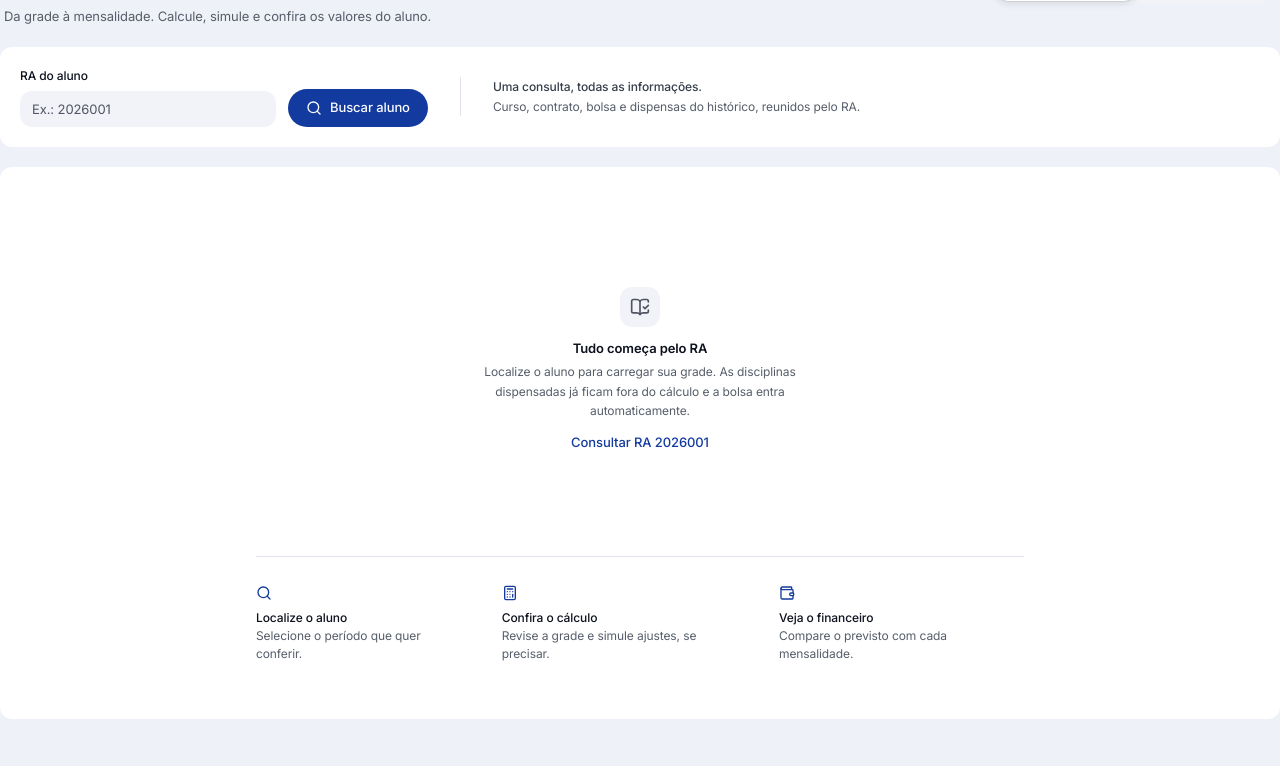
Test: cálculo independente por RA e manual › restaura o cadastro após ajustes e usa a fórmula correta ao alternar perfil
The image size is (1280, 766).
Click the button "Consultar RA 2026001": (640, 442) [571,432,709,452]
(page scrolled)
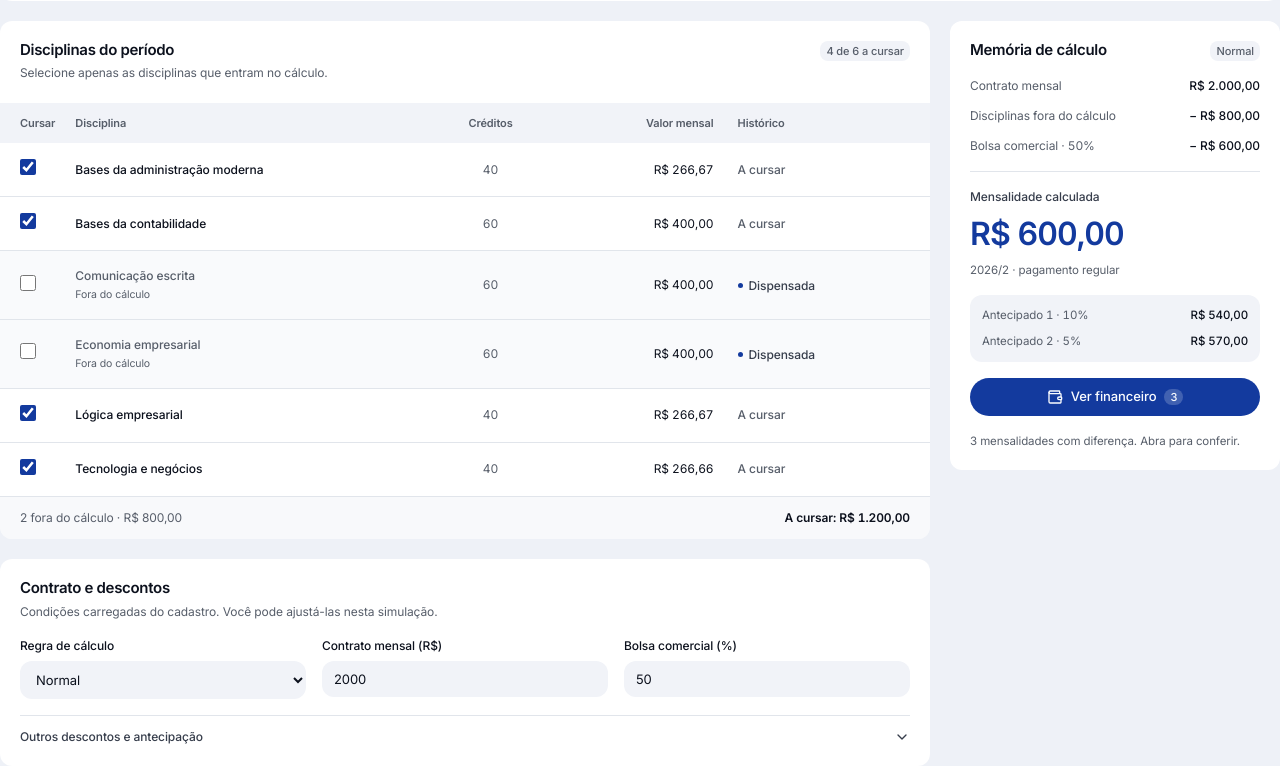
Select "CEU" in the dropdown labelled "Regra de cálculo": (163, 680) [20,661,306,699]
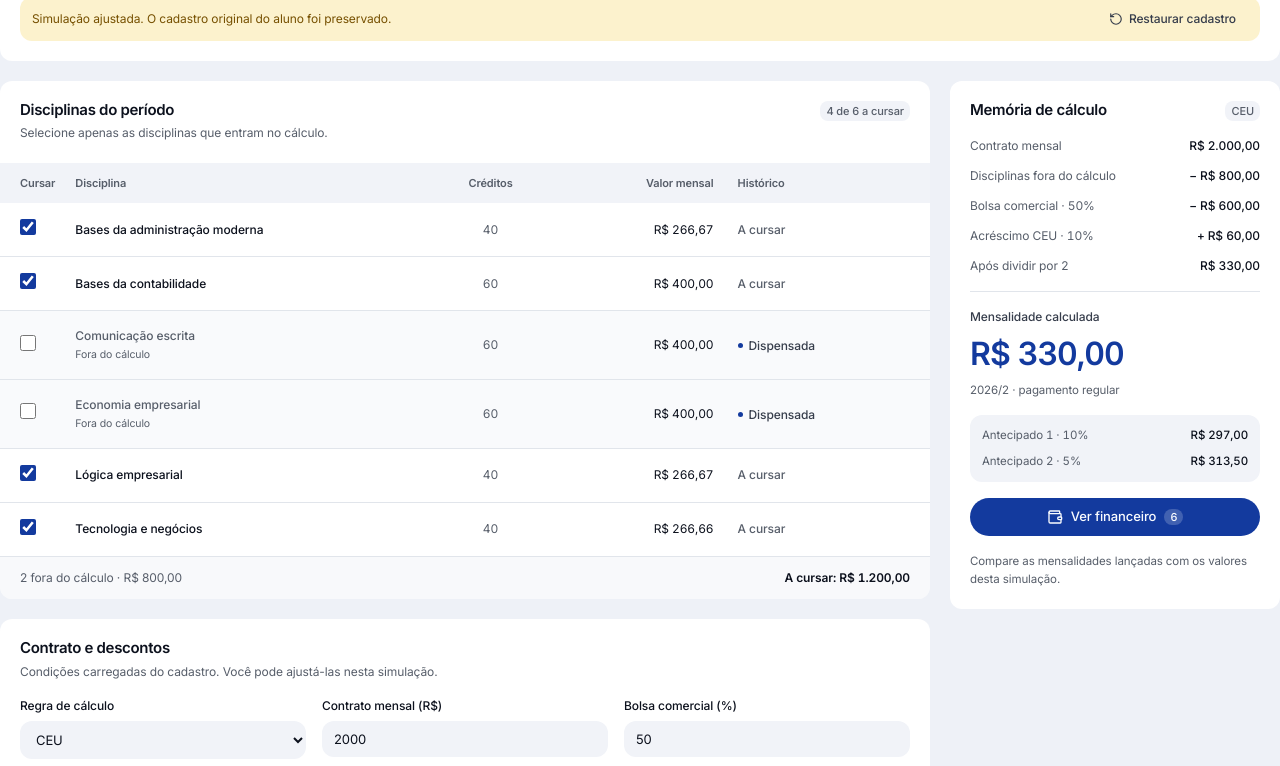
Now the text "R$ 330,00" is shown 2 times, box [1200,257,1260,275]; [970,334,1124,373]
Select "ProUni 50%" in the dropdown labelled "Regra de cálculo": (163, 740) [20,721,306,759]
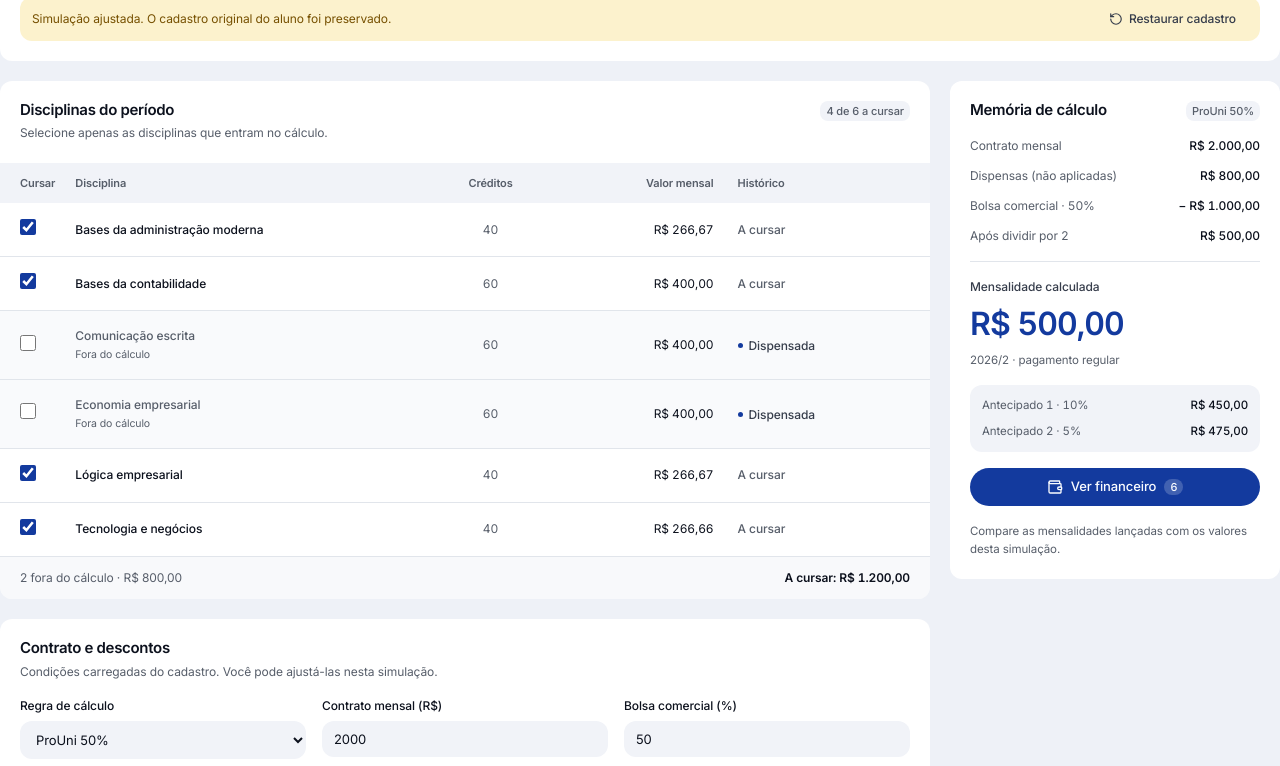
Now the text "R$ 500,00" is shown 2 times, box [1200,227,1260,245]; [970,304,1124,343]
Click the checkbox named "Cursar Comunicação escrita": (28, 343) [20,335,36,351]
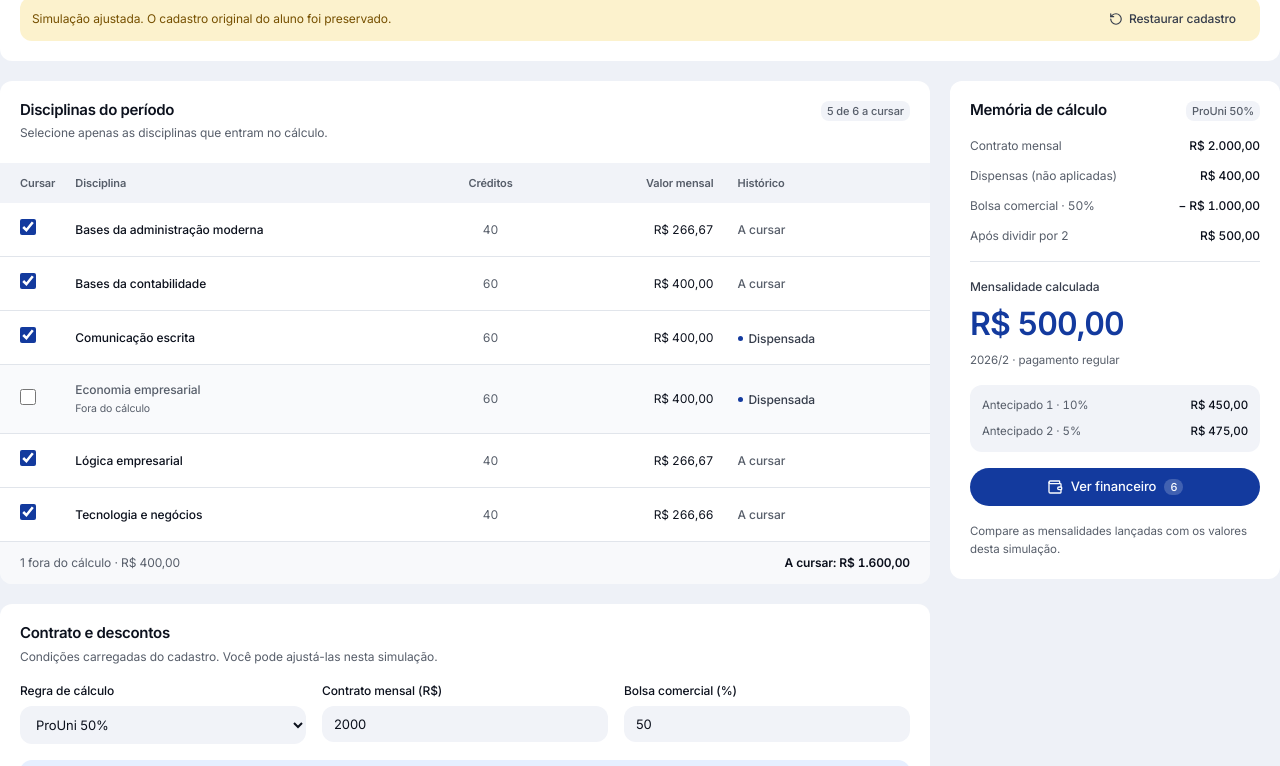
Click the button "Restaurar cadastro": (1172, 18) [1097,4,1248,32]
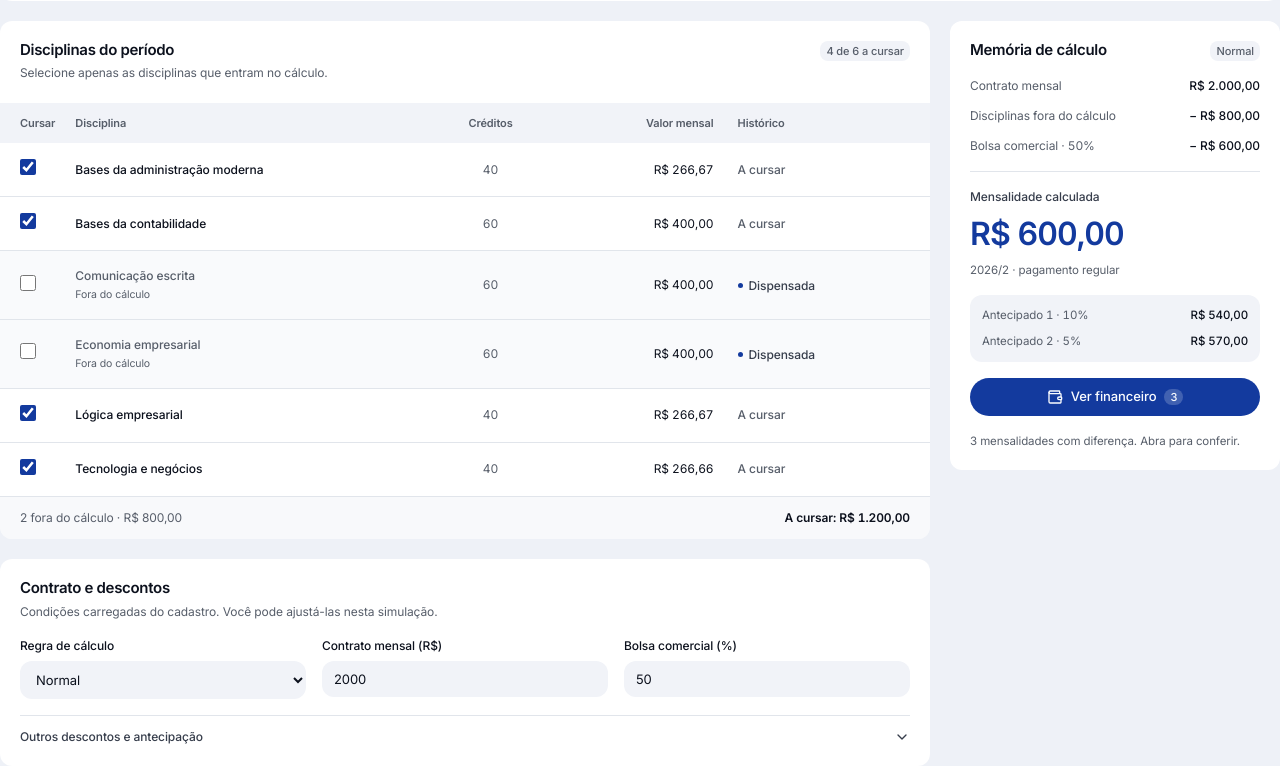
Now the checkbox named "Cursar Comunicação escrita" is not checked, box [20,275,36,291]
Now the dropdown labelled "Regra de cálculo" shows "Normal", box [20,661,306,699]
Now the button "Restaurar cadastro" is gone
